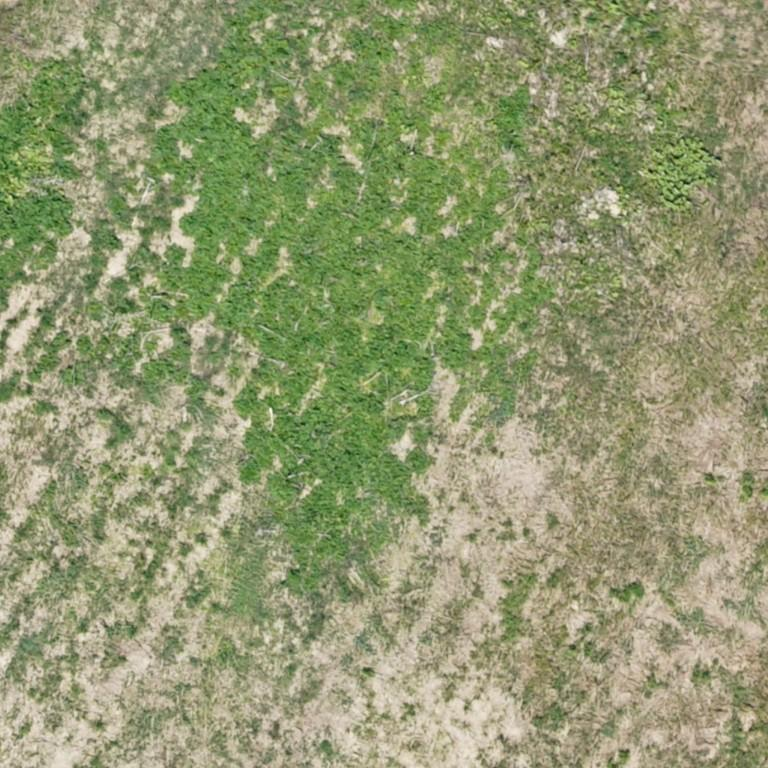hogweed: (140, 5, 508, 592), (0, 66, 84, 298), (330, 27, 392, 102)
